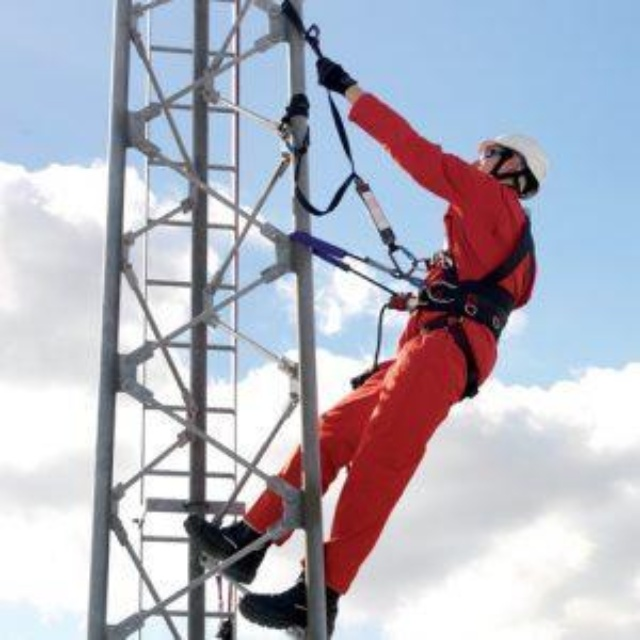Arnes_seguridad: (420, 198, 553, 391)
